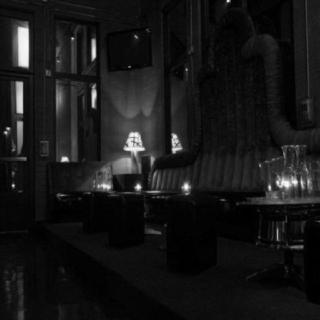other: (262, 164, 312, 196)
